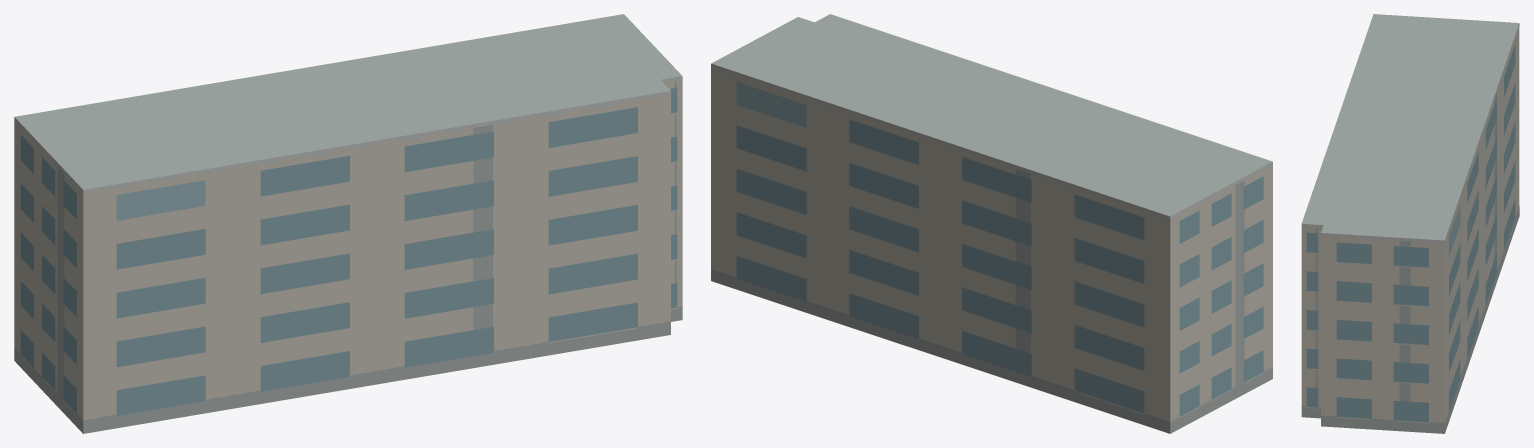
The model's file is residential-e299eec0-e911-4827-9ba8-8752ff12803a.glb.
3 views of the same model, side by side, from view 1: azimuth 30°, elevation 25°; view 2: azimuth 150°, elevation 25°; view 3: azimuth 270°, elevation 25° (orthographic). The views are drawn at different scales.
Parts seen in each view (by area): view 1: residential-e299eec0-e911-4827-9ba8-8752ff12803a.tmp; view 2: residential-e299eec0-e911-4827-9ba8-8752ff12803a.tmp; view 3: residential-e299eec0-e911-4827-9ba8-8752ff12803a.tmp.
Boxes of the visible parts, box(x1,y1,x2,y2) form: residential-e299eec0-e911-4827-9ba8-8752ff12803a.tmp: box(14, 14, 682, 433); residential-e299eec0-e911-4827-9ba8-8752ff12803a.tmp: box(711, 14, 1272, 433); residential-e299eec0-e911-4827-9ba8-8752ff12803a.tmp: box(1301, 14, 1519, 433).
Size of the model in its own units: 38.31 by 15.25 by 15.59.
